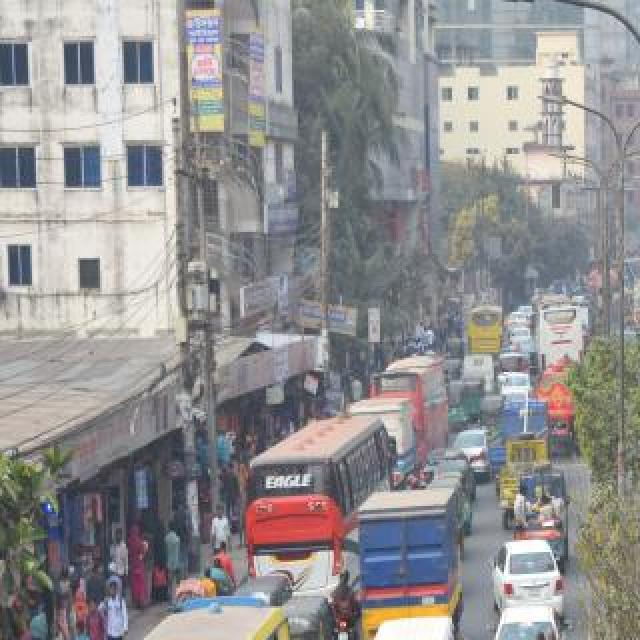bus: (244, 410, 394, 572), (32, 586, 306, 640), (374, 351, 450, 449), (539, 292, 587, 372), (464, 302, 504, 362), (632, 276, 640, 336)
car: (489, 536, 561, 614), (494, 598, 566, 640), (451, 423, 489, 471), (501, 370, 531, 404), (509, 327, 533, 351), (507, 309, 527, 329)
motorbike: (330, 566, 358, 640), (478, 636, 518, 640)
truck: (535, 359, 589, 455)
van: (350, 484, 464, 640), (348, 394, 422, 474), (516, 467, 570, 565), (487, 395, 553, 473), (500, 438, 552, 524), (358, 618, 466, 640)
